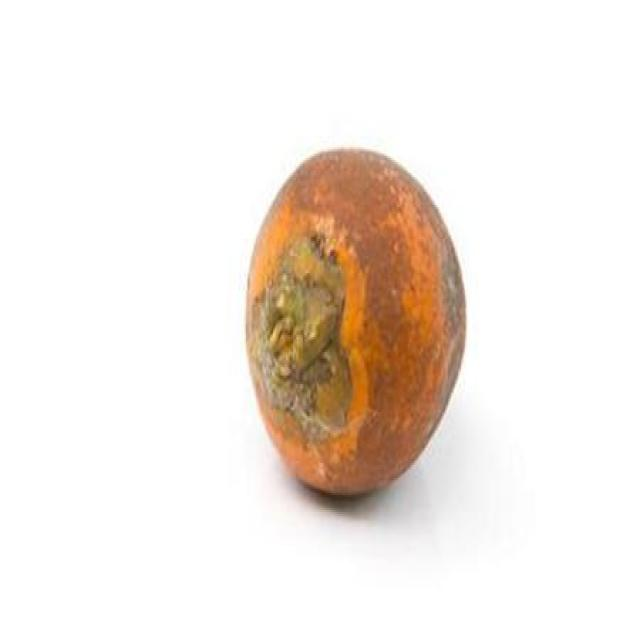good: (243, 149, 468, 499)
